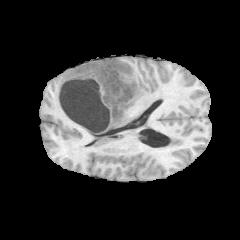glioma: (56, 58, 175, 145)
